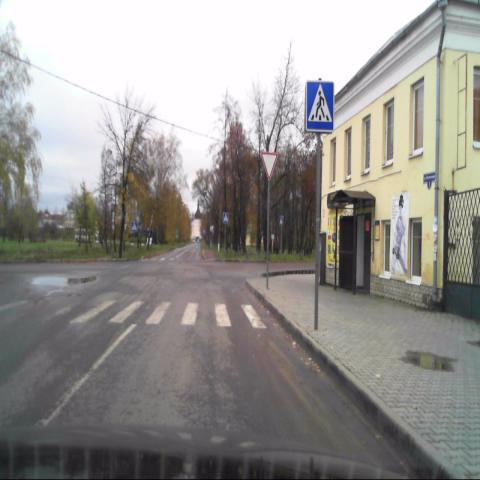2_4: (259, 152, 278, 181)
5_19_1: (306, 82, 334, 134)
